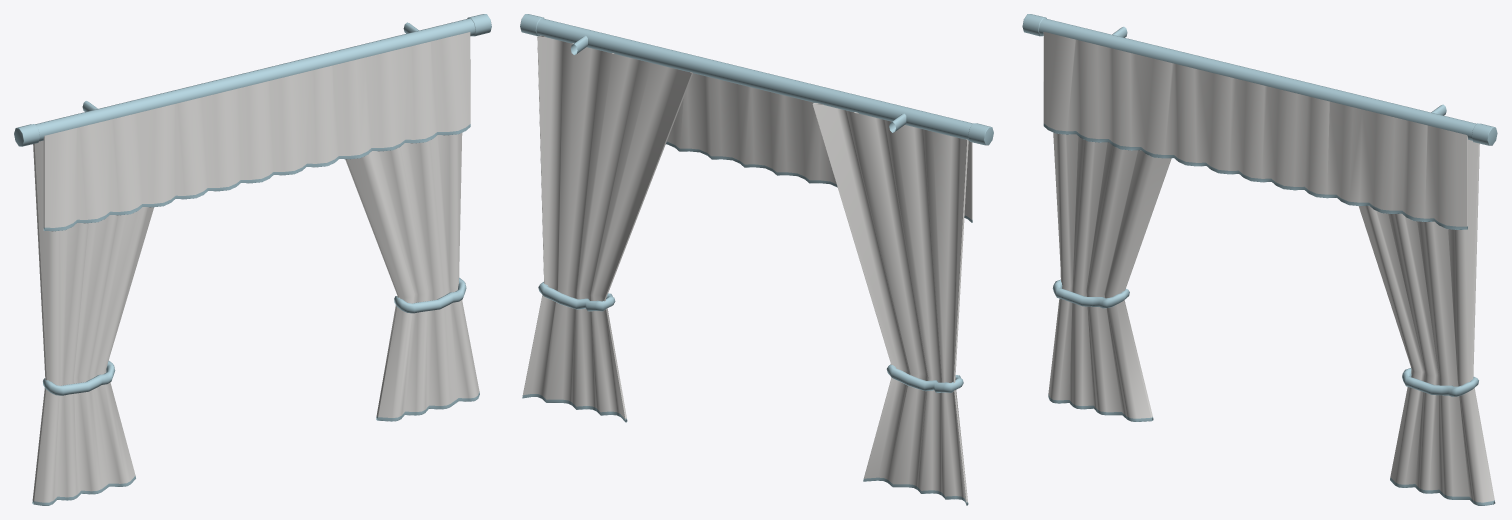
Rendered from Curtains_3.glb.
3 renders of one model, left to right at view 1: azimuth 30°, elevation 25°; view 2: azimuth 150°, elevation 25°; view 3: azimuth 330°, elevation 25°, orthographic.
Parts seen in each view (by area): view 1: Curtains_3; view 2: Curtains_3; view 3: Curtains_3.
Boxes of the visible parts, <box> form: Curtains_3: <box>14,14,491,505</box>; Curtains_3: <box>520,14,993,505</box>; Curtains_3: <box>1022,14,1497,505</box>.
Bounding box in the file's own units: 2.06 × 1.61 × 0.1838.
1 material, 1 textured.
